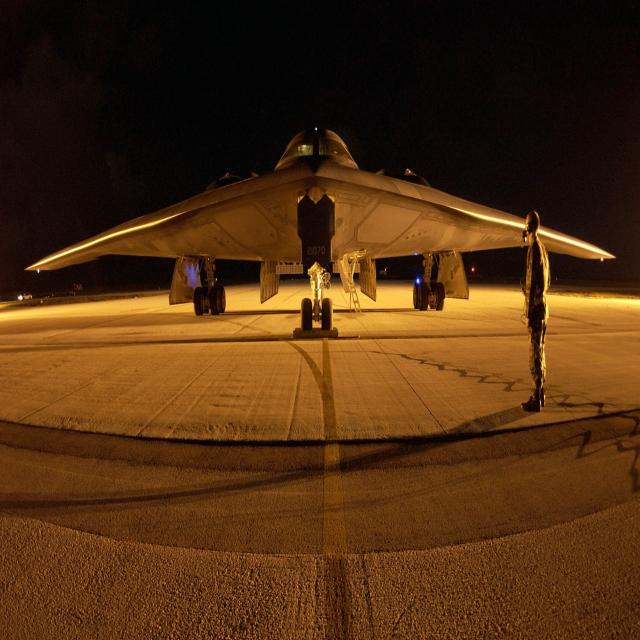MIL_Plane: (24, 60, 616, 138)
